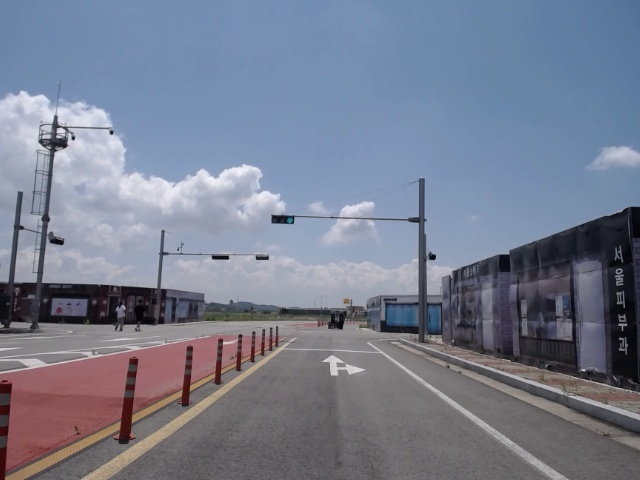green_3: (271, 215, 294, 224)
